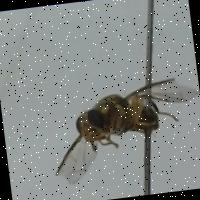Oriental-fruit-fly: (29, 59, 200, 195)
